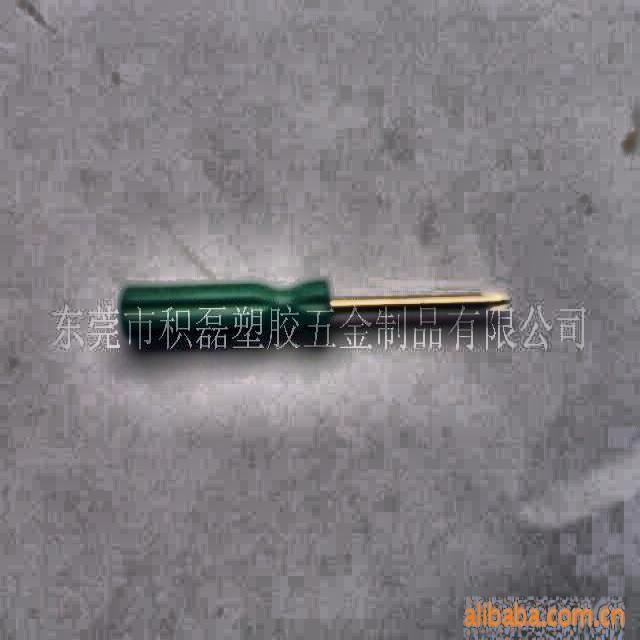screwdriver: (122, 280, 506, 346)
